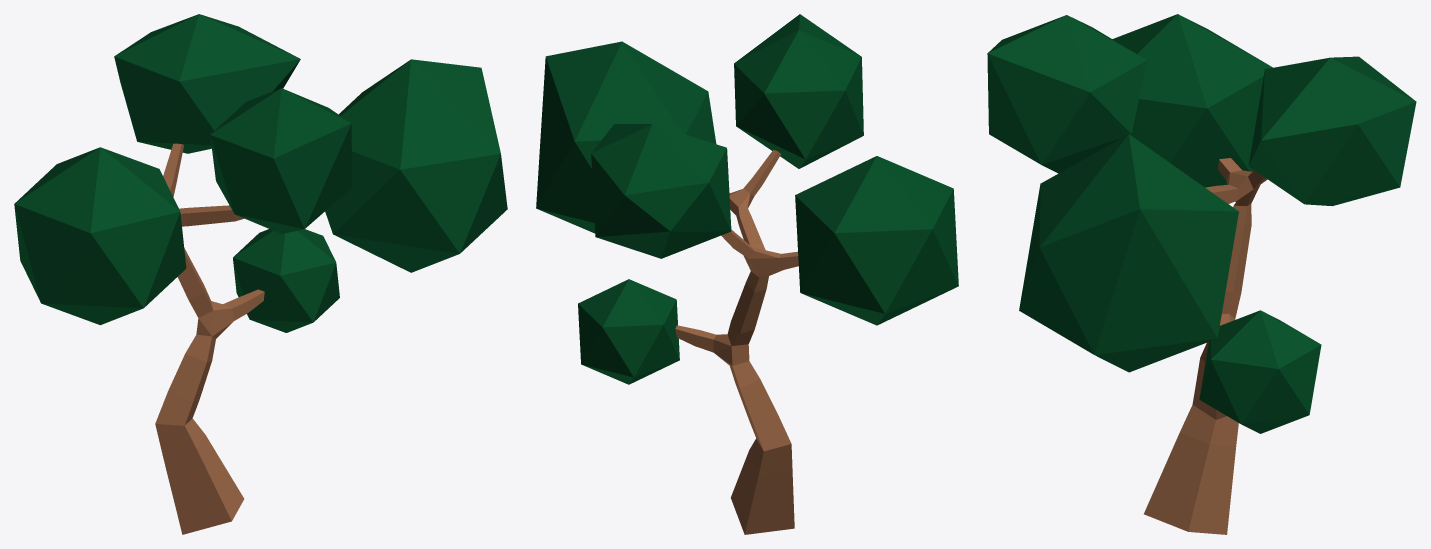
Rendered from Arbol 1.fbx.
3 renders of one model, left to right at view 1: azimuth 30°, elevation 25°; view 2: azimuth 150°, elevation 25°; view 3: azimuth 270°, elevation 25°, orthographic. The views are drawn at different scales.
Parts seen in each view (by area): view 1: Hojas de Arbol7, Hojas de Arbol9, Hojas de Arbol8, Hojas de Arbol10, Rama De Arbol2, Hojas de Arbol6; view 2: Hojas de Arbol9, Hojas de Arbol7, Hojas de Arbol8, Hojas de Arbol10, Rama De Arbol2, Hojas de Arbol6; view 3: Hojas de Arbol7, Hojas de Arbol8, Hojas de Arbol10, Hojas de Arbol9, Rama De Arbol2, Hojas de Arbol6.
Boxes of the visible parts, <box> form: Hojas de Arbol7: <box>325,59,507,272</box>; Hojas de Arbol9: <box>14,147,186,325</box>; Hojas de Arbol8: <box>114,14,300,153</box>; Hojas de Arbol10: <box>210,88,352,233</box>; Rama De Arbol2: <box>155,143,264,534</box>; Hojas de Arbol6: <box>233,229,339,332</box>; Hojas de Arbol9: <box>795,156,958,325</box>; Hojas de Arbol7: <box>536,41,716,233</box>; Hojas de Arbol8: <box>591,124,731,258</box>; Hojas de Arbol10: <box>734,14,863,168</box>; Rama De Arbol2: <box>675,149,798,534</box>; Hojas de Arbol6: <box>578,279,679,384</box>; Hojas de Arbol7: <box>1019,134,1238,372</box>; Hojas de Arbol8: <box>1248,56,1416,206</box>; Hojas de Arbol10: <box>987,15,1146,173</box>; Hojas de Arbol9: <box>1112,14,1272,187</box>; Rama De Arbol2: <box>1144,158,1267,534</box>; Hojas de Arbol6: <box>1199,310,1321,433</box>.
Size of the model in its own units: 344 by 351 by 259.
